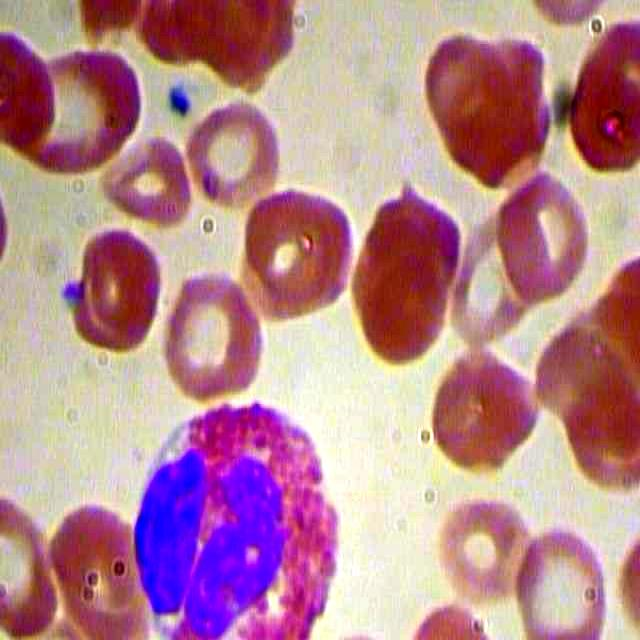Platelets: (163, 76, 196, 119)
RBC: (6, 42, 147, 182), (230, 179, 358, 325), (416, 342, 547, 482), (351, 213, 452, 372), (162, 263, 272, 407), (495, 168, 596, 308), (430, 488, 542, 611), (186, 84, 284, 219), (67, 223, 165, 357), (509, 525, 609, 640), (99, 131, 194, 232)
WBC: (110, 392, 351, 639)
